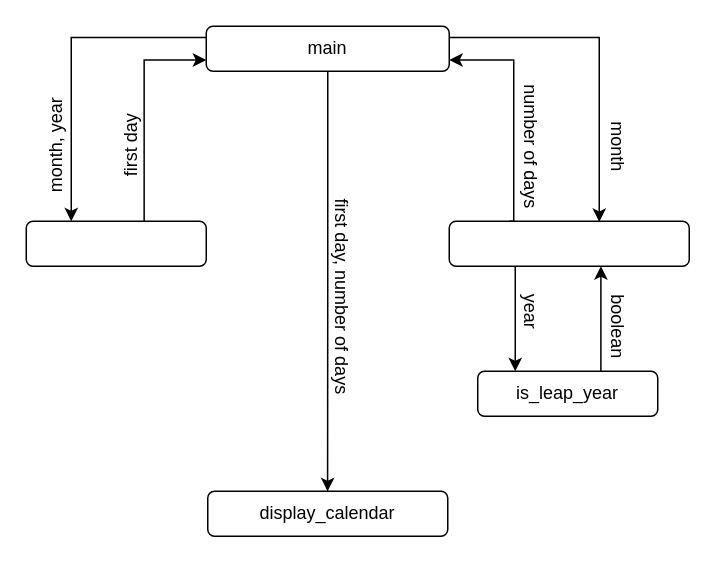
This 716x563 diagram has some shape labels left out. The shapes that lost their labels are listed below. From the top down, each one's centre as x and y in pixels, then its label:
the point at 115,243: first_day_of_month
the point at 568,243: number_of_days_in_month
